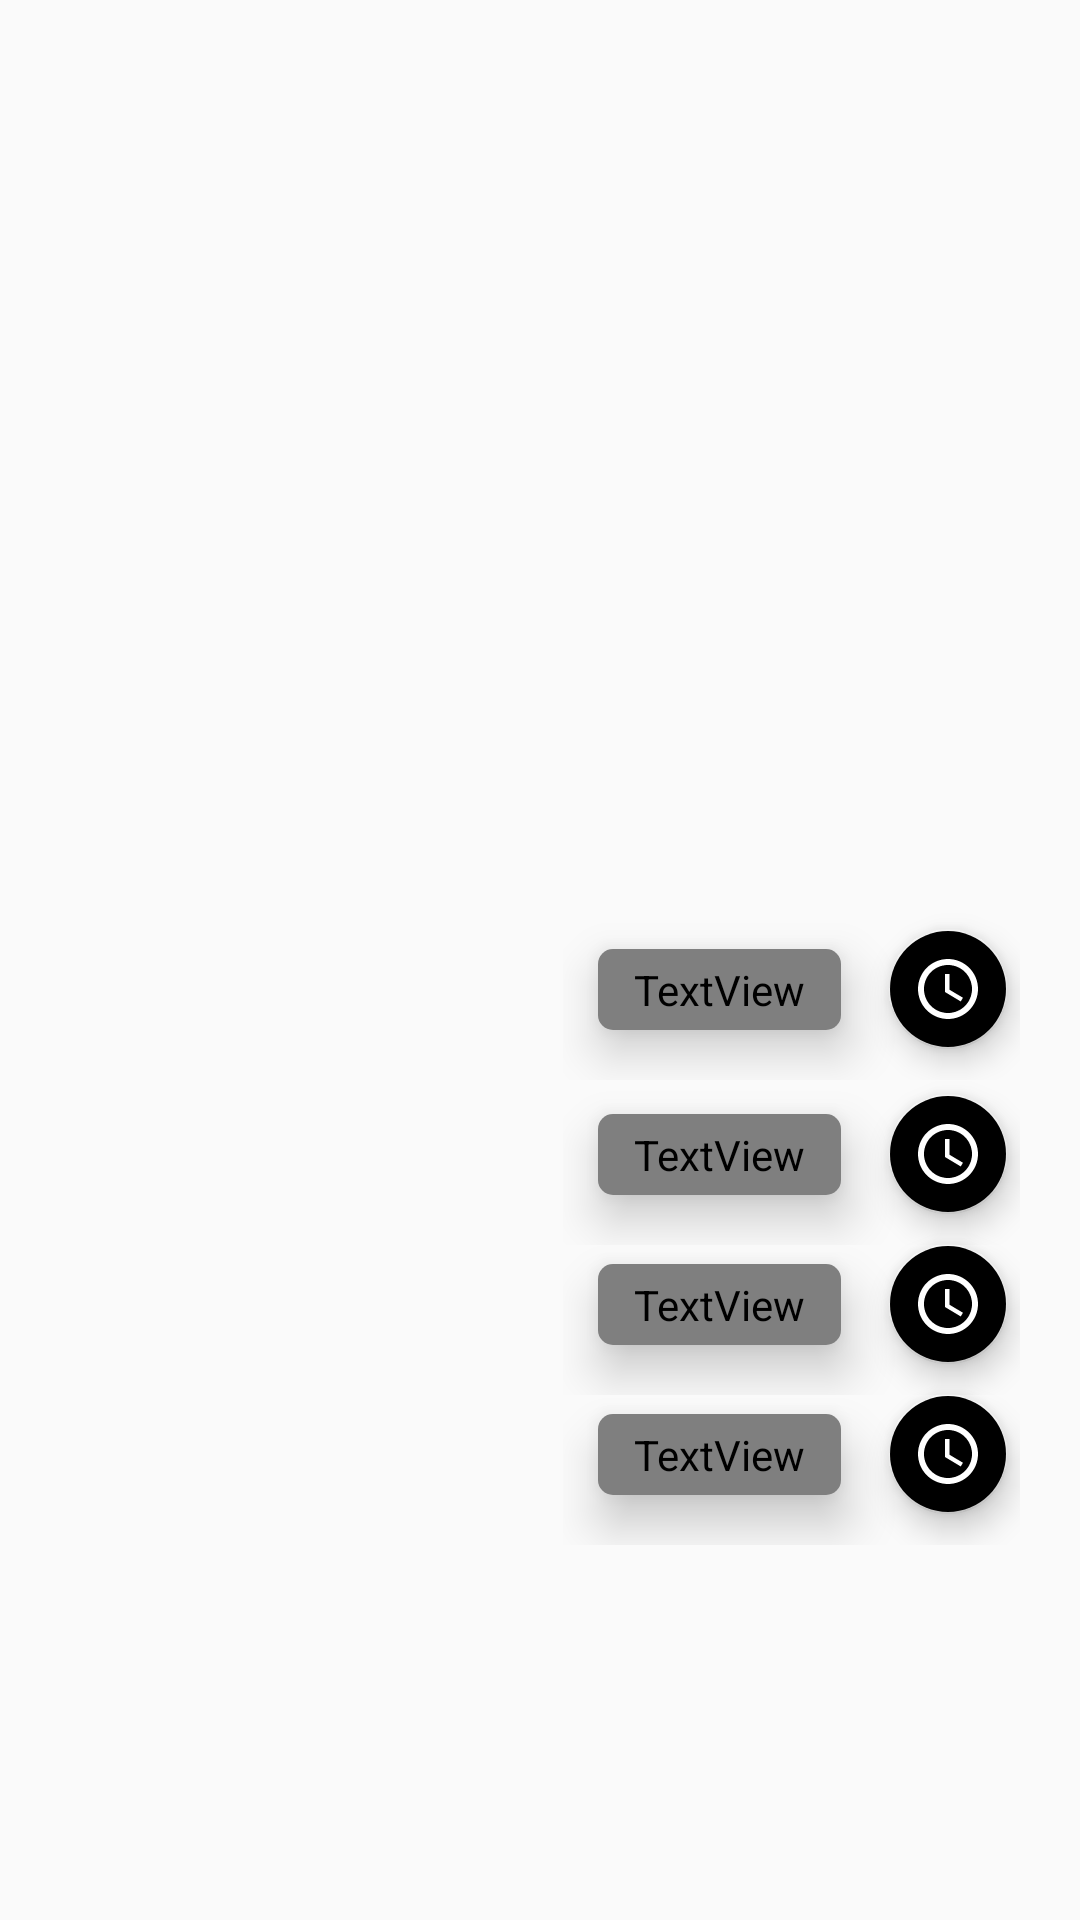

Icon bounding boxes for this 1080w x 1920h phone screenshot, format (x1, y1, x2, y2):
post clock: (890, 931, 1006, 1049), (890, 1096, 1006, 1214), (890, 1246, 1006, 1364), (890, 1396, 1006, 1514)
